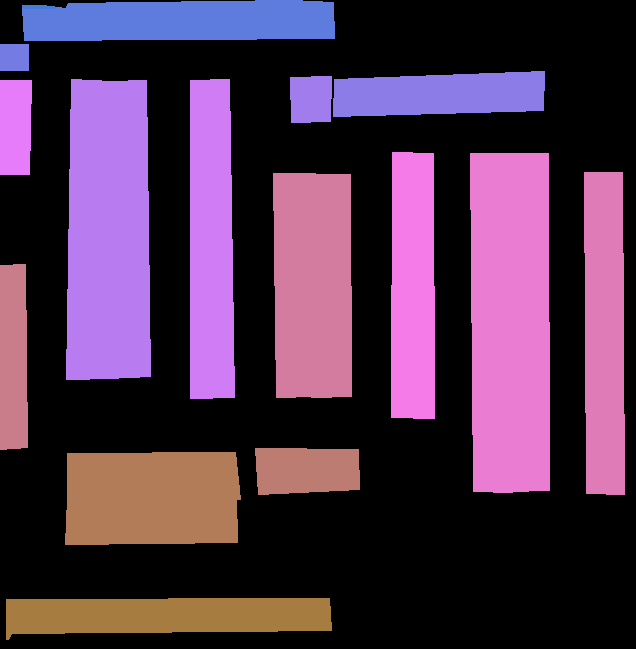parkingspot: (505, 153, 549, 491), (470, 153, 512, 492), (66, 79, 113, 379), (190, 79, 234, 398), (6, 598, 331, 639), (584, 172, 624, 494), (108, 80, 150, 378), (22, 0, 334, 40), (391, 152, 434, 418), (333, 71, 544, 116), (273, 173, 315, 397), (311, 174, 351, 397), (67, 452, 240, 501), (65, 496, 237, 544), (0, 264, 27, 449), (255, 448, 359, 494), (0, 80, 31, 174), (290, 76, 331, 122), (0, 44, 28, 70)
